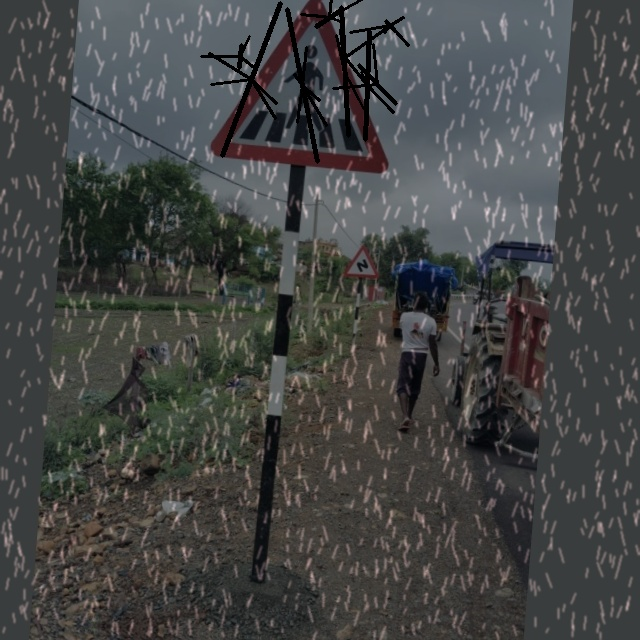Pedestrian_Crossing: (210, 1, 399, 171)
